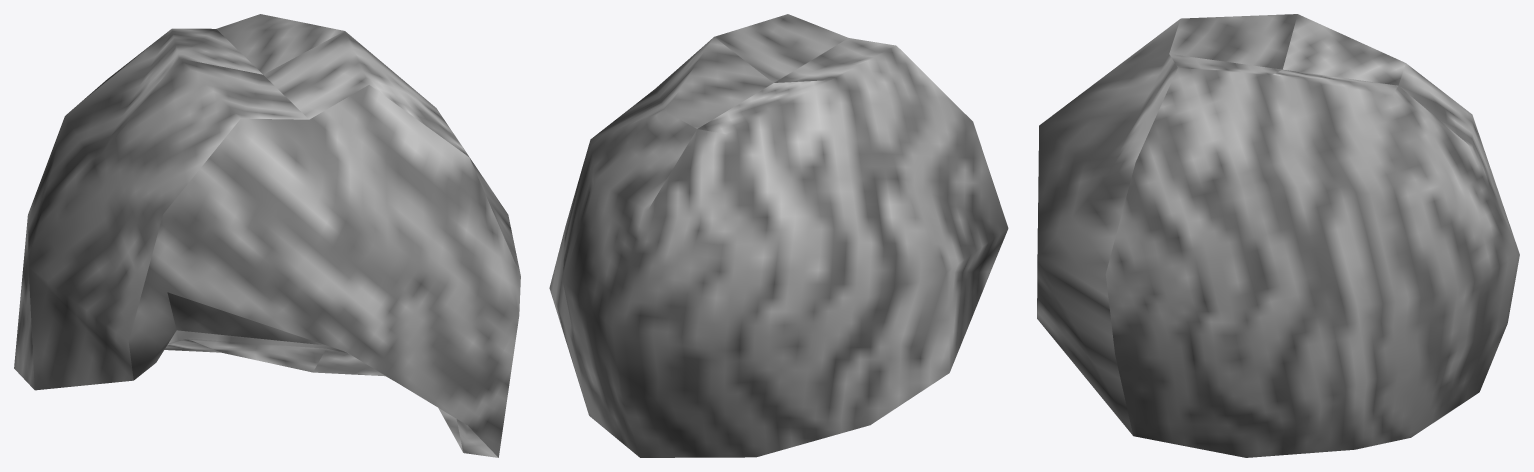
Rendered from Wig_M_Hair_Donny.fbx.
3 views of the same model, side by side, from view 1: azimuth 30°, elevation 25°; view 2: azimuth 150°, elevation 25°; view 3: azimuth 270°, elevation 25° (orthographic). The views are drawn at different scales.
Visible parts, largest first — view 1: BoxOfJars003; view 2: BoxOfJars003; view 3: BoxOfJars003.
Part boxes in pixels (x1,y1,x2,y2): BoxOfJars003: (14,14,520,457); BoxOfJars003: (549,14,1008,457); BoxOfJars003: (1037,14,1519,457).
Bounding box in the file's own units: 14.85 × 12.71 × 16.54.
